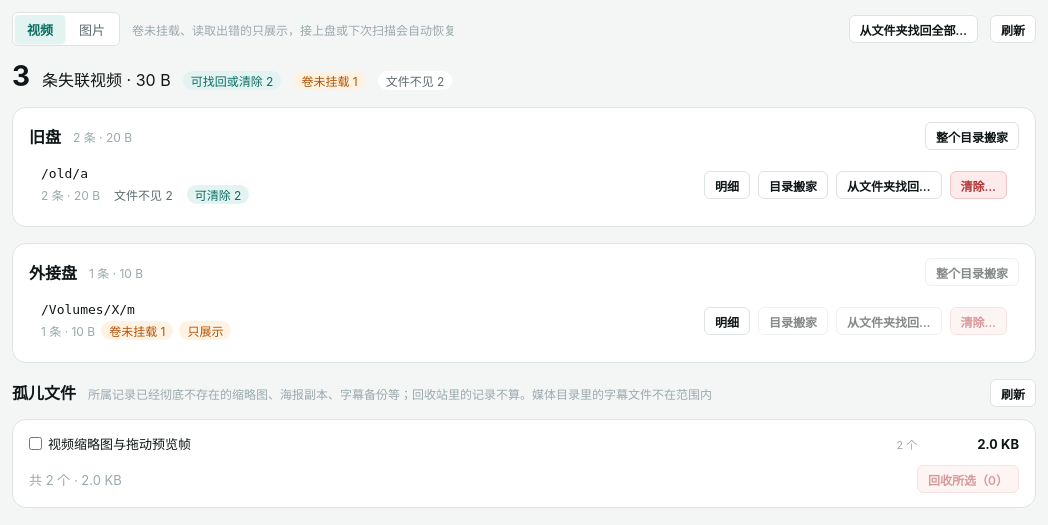
it: 失联数据面板（D-LD-*） › 孤儿文件：按位置列出，勾选后回收并重新统计
Expected: the list item with test id "lost-orphan-row" shows "2 个", x1=896 y1=438 x2=917 y2=452
Click the checkbox with test id "lost-orphan-toggle-thumbnails": (36, 444) x1=29 y1=437 x2=42 y2=450
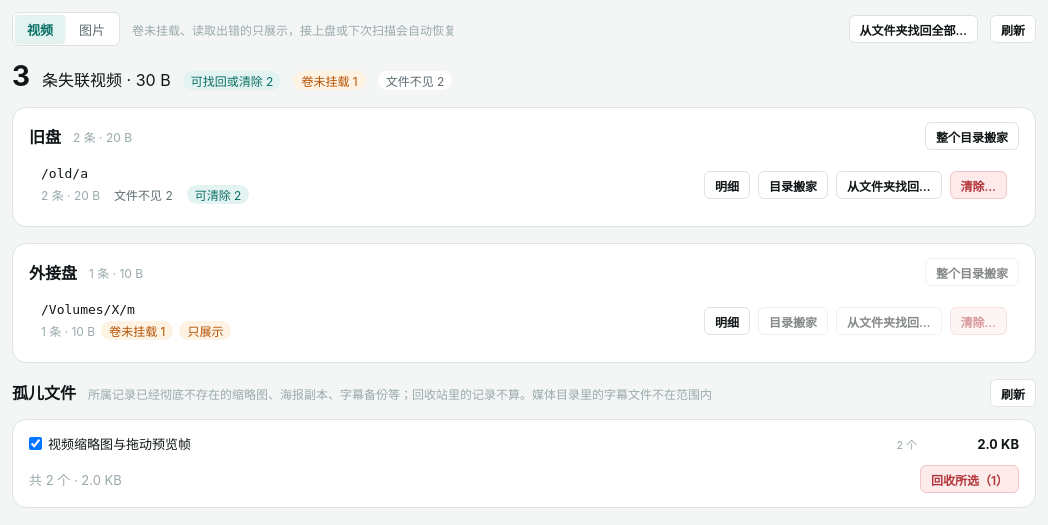
Click the button with test id "lost-orphans-reclaim": (969, 479) x1=920 y1=465 x2=1019 y2=493
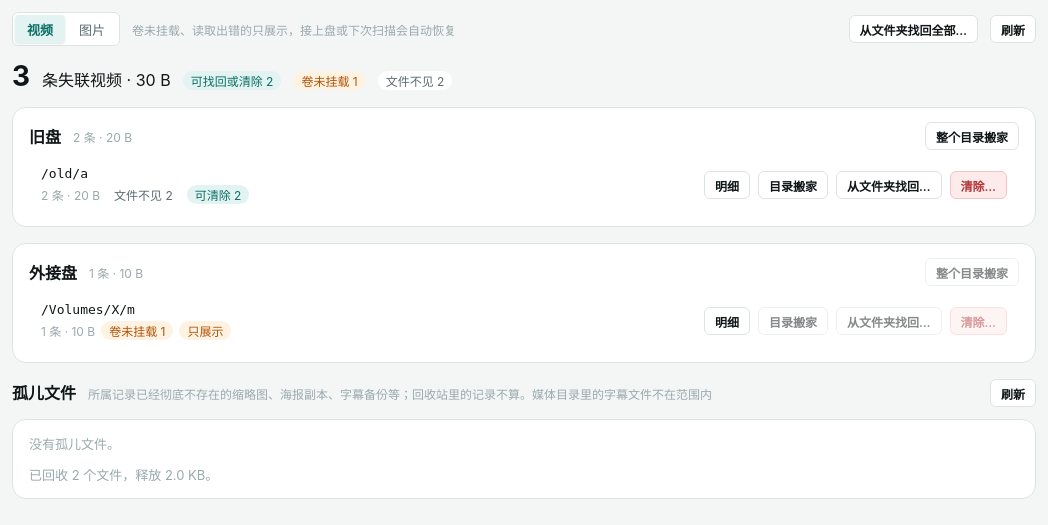
Now the text with test id "lost-orphans-result" shows "已回收 2 个文件", box x1=29 y1=467 x2=205 y2=483
Now the text "没有孤儿文件。" is shown, box x1=29 y1=436 x2=120 y2=452
